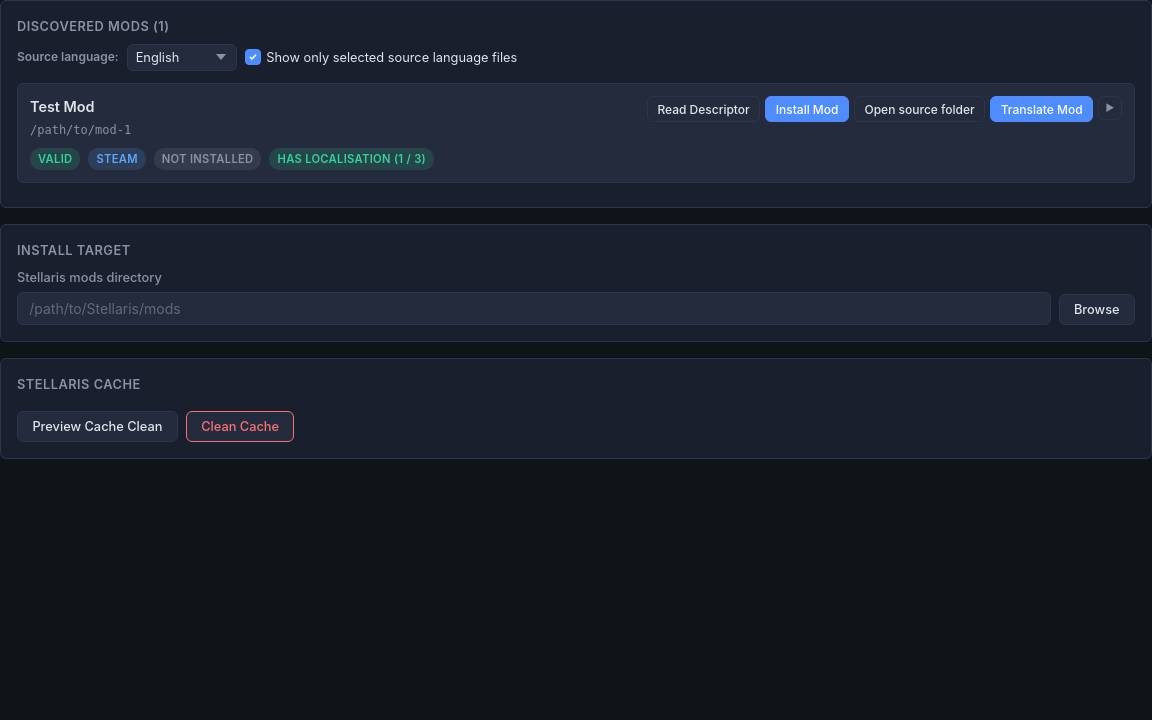
Test: ModListSection — global source language filter › defaults to English filter and shows only English files
Step 1. Click the button titled "Expand" → coordinates (1110, 108), box [1098,96,1122,120]
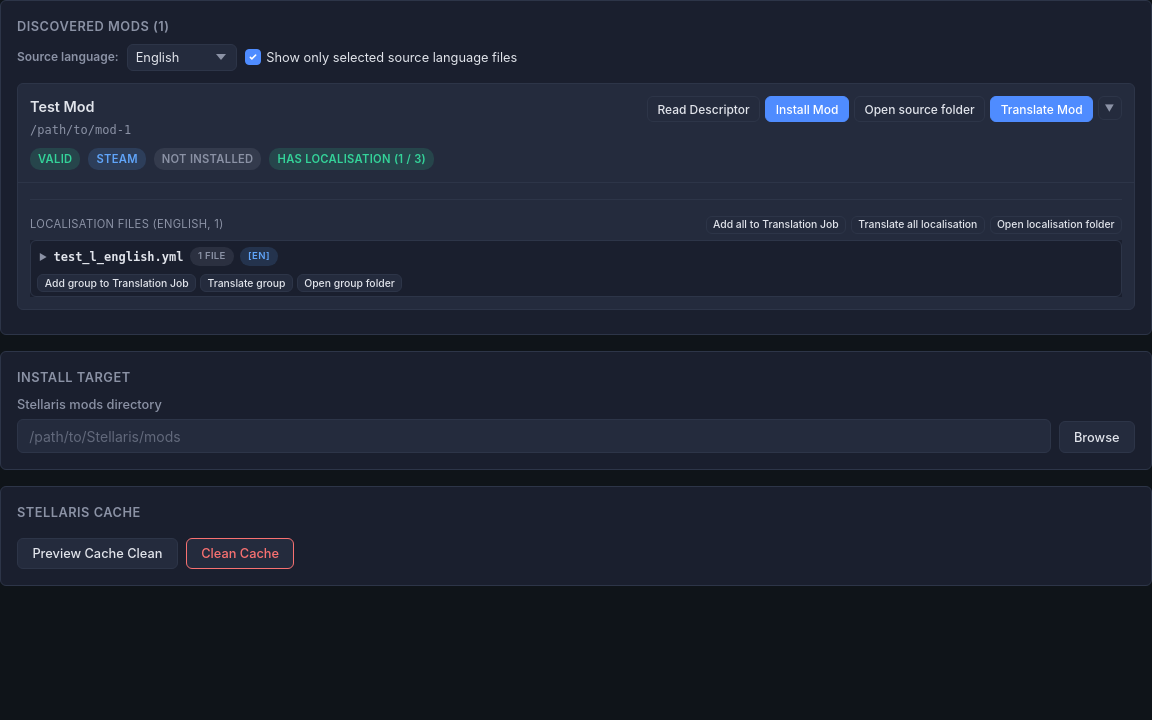
Now the text "Localisation files (English, 1)" is shown, box [30,216,224,233]
